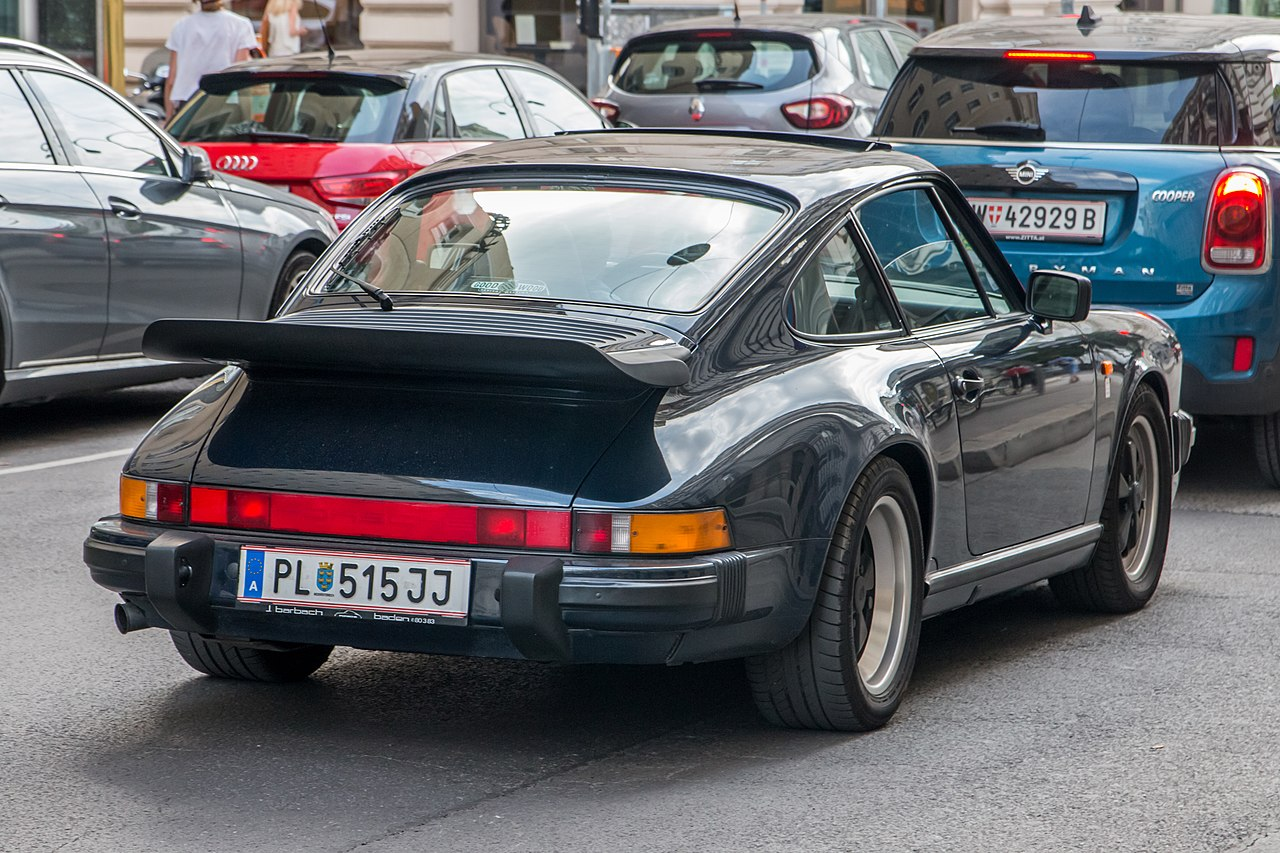plate: (233, 543, 473, 629), (963, 196, 1108, 246)
